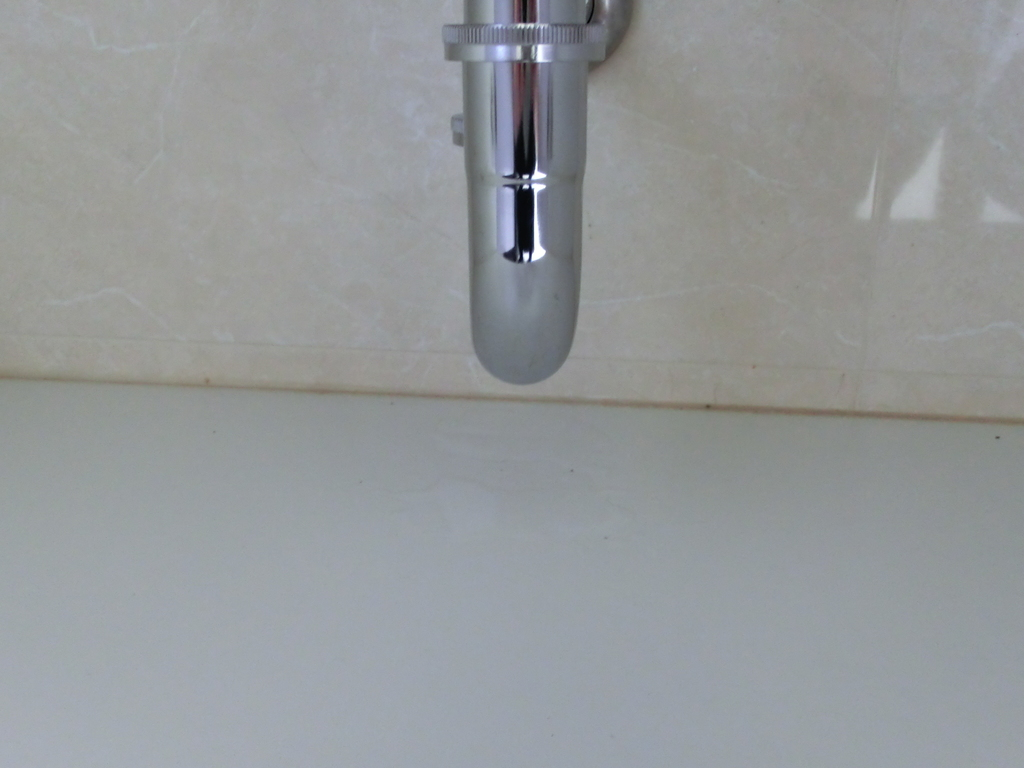tap: (391, 7, 700, 394)
